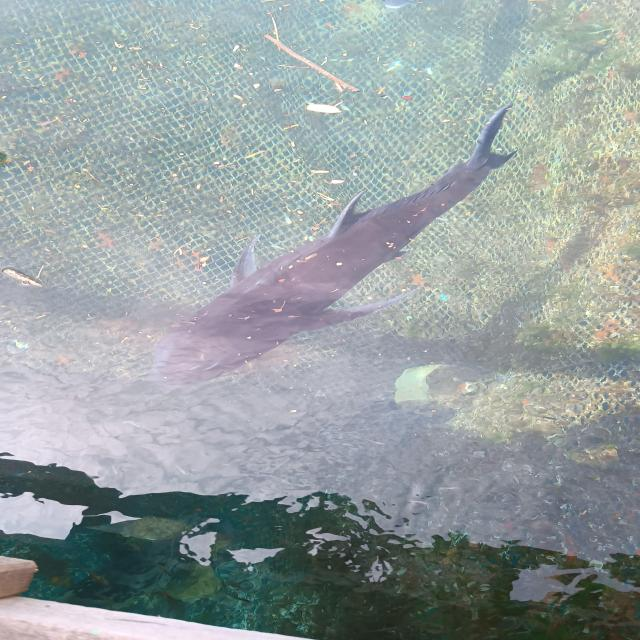ikan: (141, 103, 554, 405)
